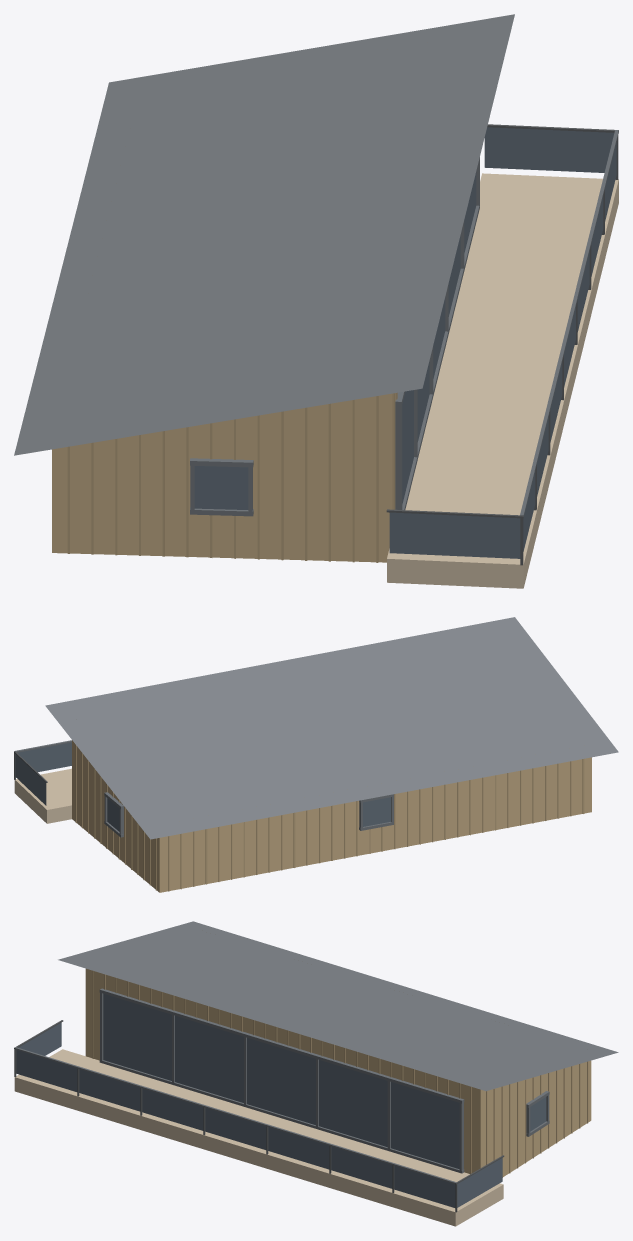
3 views of the same model, one above another, from view 1: azimuth 30°, elevation 25°; view 2: azimuth 150°, elevation 25°; view 3: azimuth 270°, elevation 25° (orthographic). The views are drawn at different scales.
Visible parts, largest first — view 1: slate, larch, door_wood, slate_dk, door_wood_p, window_glass_008, window_glass_009, window_glass_017, pipe, window_glass_010; view 2: slate, door_wood, door_wood_p, larch, window_glass_007, slate_dk, window_glass_009, window_glass_016; view 3: slate, door_wood, larch, slate_dk, window_glass_012, window_glass_011, window_glass_010, window_glass_013, window_glass_014, door_wood_p, window_glass_002, window_glass_003 (+9 smaller).
Boxes of the visible parts, x1,y1,x2,y2 form: slate: [14, 14, 514, 455]; larch: [387, 173, 618, 588]; door_wood: [52, 393, 395, 562]; slate_dk: [190, 130, 618, 516]; door_wood_p: [67, 392, 397, 562]; window_glass_008: [389, 512, 520, 558]; window_glass_009: [484, 127, 614, 172]; window_glass_017: [194, 466, 248, 509]; pipe: [386, 124, 618, 565]; window_glass_010: [402, 390, 413, 503]; slate: [45, 617, 618, 839]; door_wood: [72, 740, 591, 892]; door_wood_p: [75, 745, 584, 891]; larch: [14, 768, 71, 823]; window_glass_007: [17, 742, 71, 771]; slate_dk: [15, 740, 393, 837]; window_glass_009: [15, 754, 46, 805]; window_glass_016: [363, 797, 390, 826]; slate: [58, 921, 618, 1091]; door_wood: [85, 968, 591, 1176]; larch: [14, 1049, 503, 1226]; slate_dk: [15, 988, 549, 1183]; window_glass_012: [247, 1037, 315, 1125]; window_glass_011: [175, 1015, 243, 1102]; window_glass_010: [103, 993, 171, 1080]; window_glass_013: [319, 1060, 387, 1146]; window_glass_014: [391, 1082, 459, 1169]; door_wood_p: [92, 971, 588, 1177]; window_glass_002: [79, 1069, 140, 1111]; window_glass_003: [142, 1088, 203, 1130].
Bounding box in the file's own units: 18.05 × 3.96 × 19.25.
